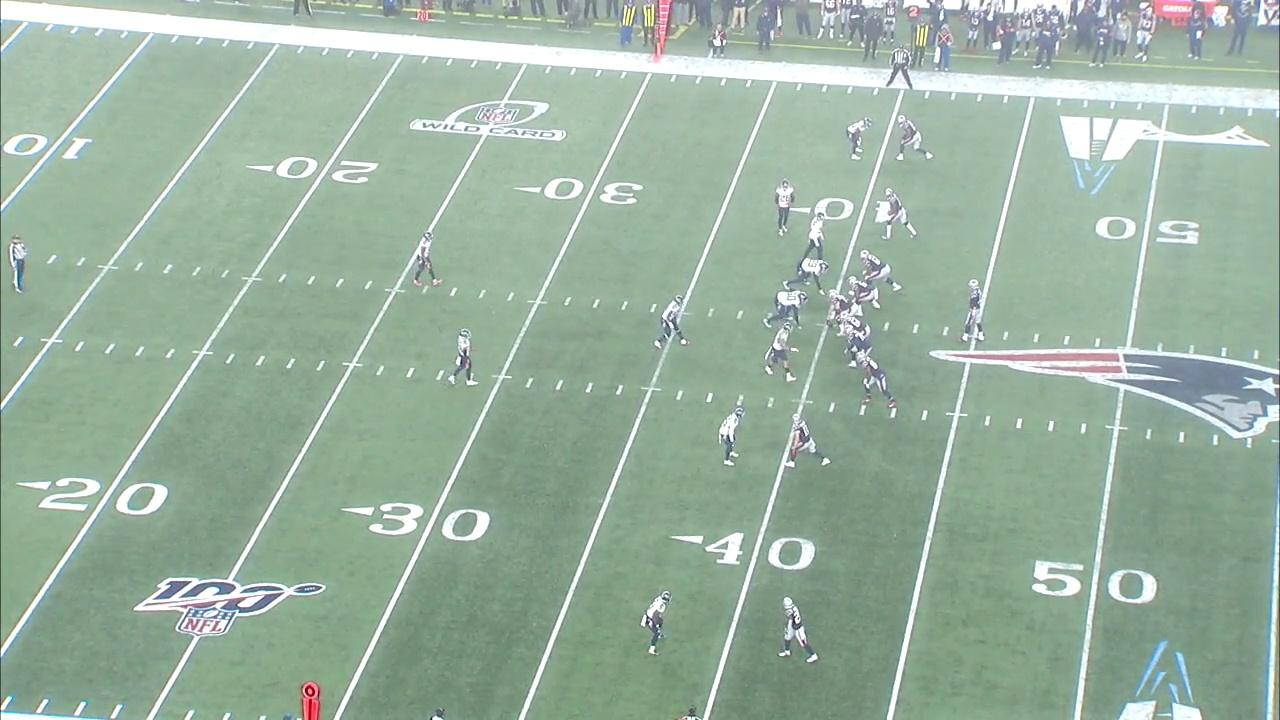defense: (638, 591, 674, 655), (766, 321, 798, 383), (780, 257, 829, 297), (763, 290, 810, 331), (410, 230, 440, 287), (655, 292, 685, 349), (717, 404, 743, 469), (448, 326, 475, 388), (844, 115, 875, 161), (772, 178, 796, 235), (802, 209, 828, 257)
oline: (861, 249, 903, 293), (850, 276, 882, 316), (826, 290, 859, 326), (842, 329, 872, 368), (840, 313, 874, 340)
qb: (959, 277, 987, 343)
ref: (8, 232, 28, 298), (886, 44, 912, 91)
skill: (855, 349, 899, 409), (785, 412, 830, 469), (782, 595, 817, 662), (894, 113, 935, 165), (879, 185, 918, 239)
